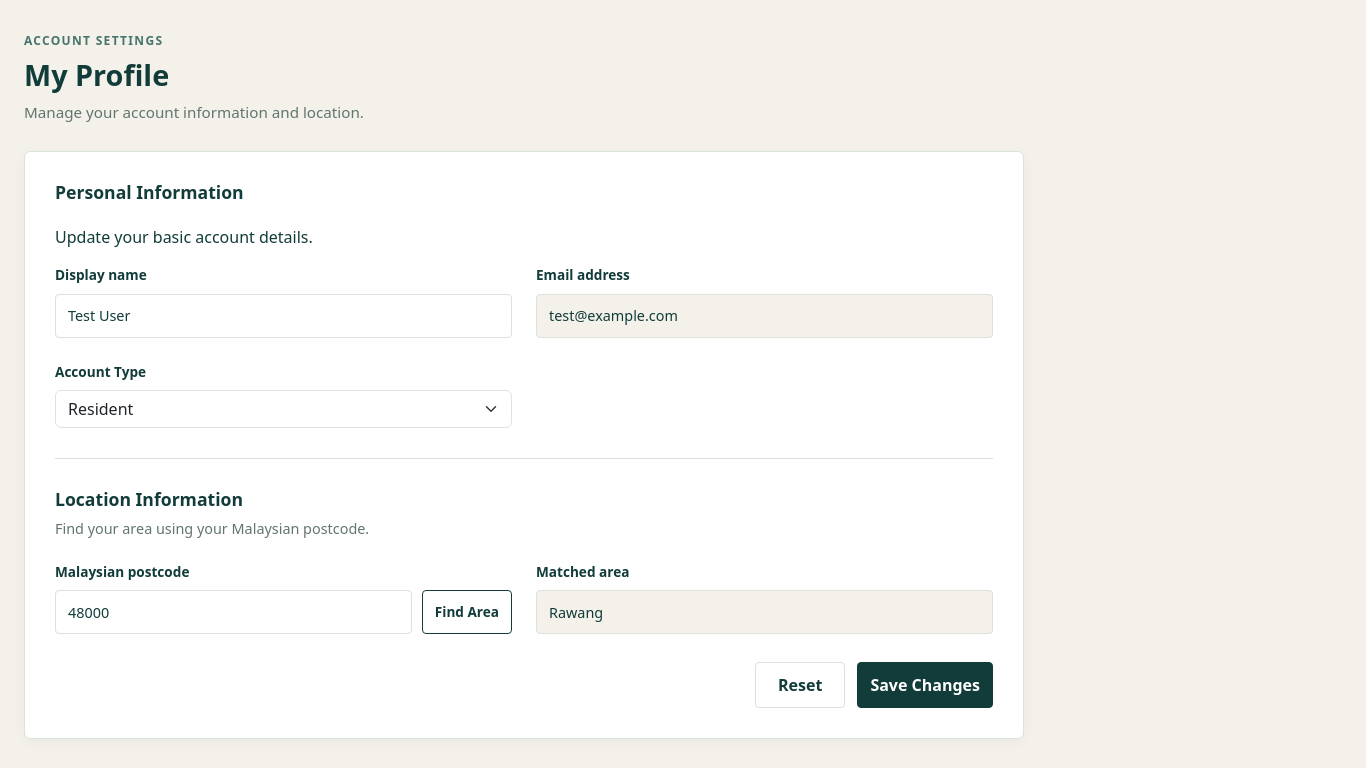
Profile › saves the updated profile information
Replace the text in the field labelled "Display name" with "Updated User" at (284, 316), box [55,294,512,338]
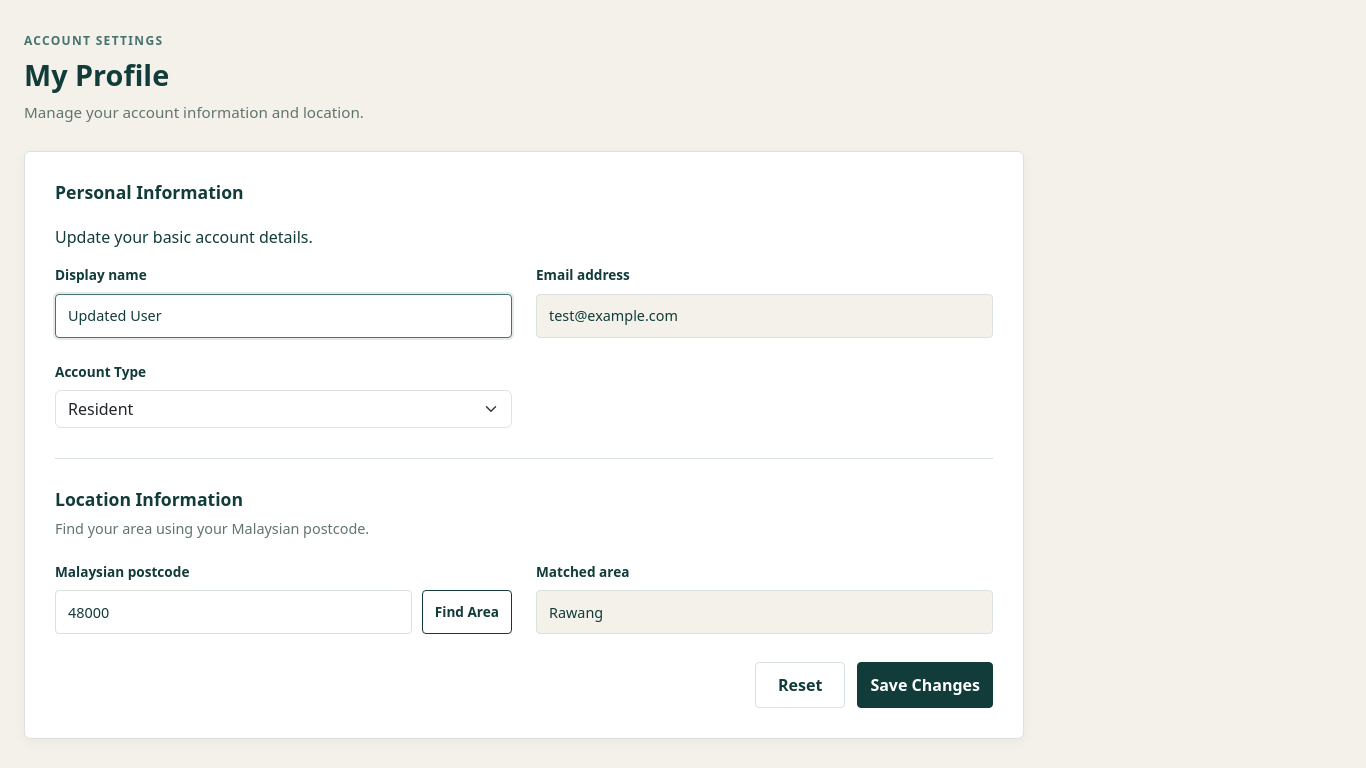
Select "Small Business" in the dropdown labelled "Account Type" at (284, 409), box [55,390,512,428]
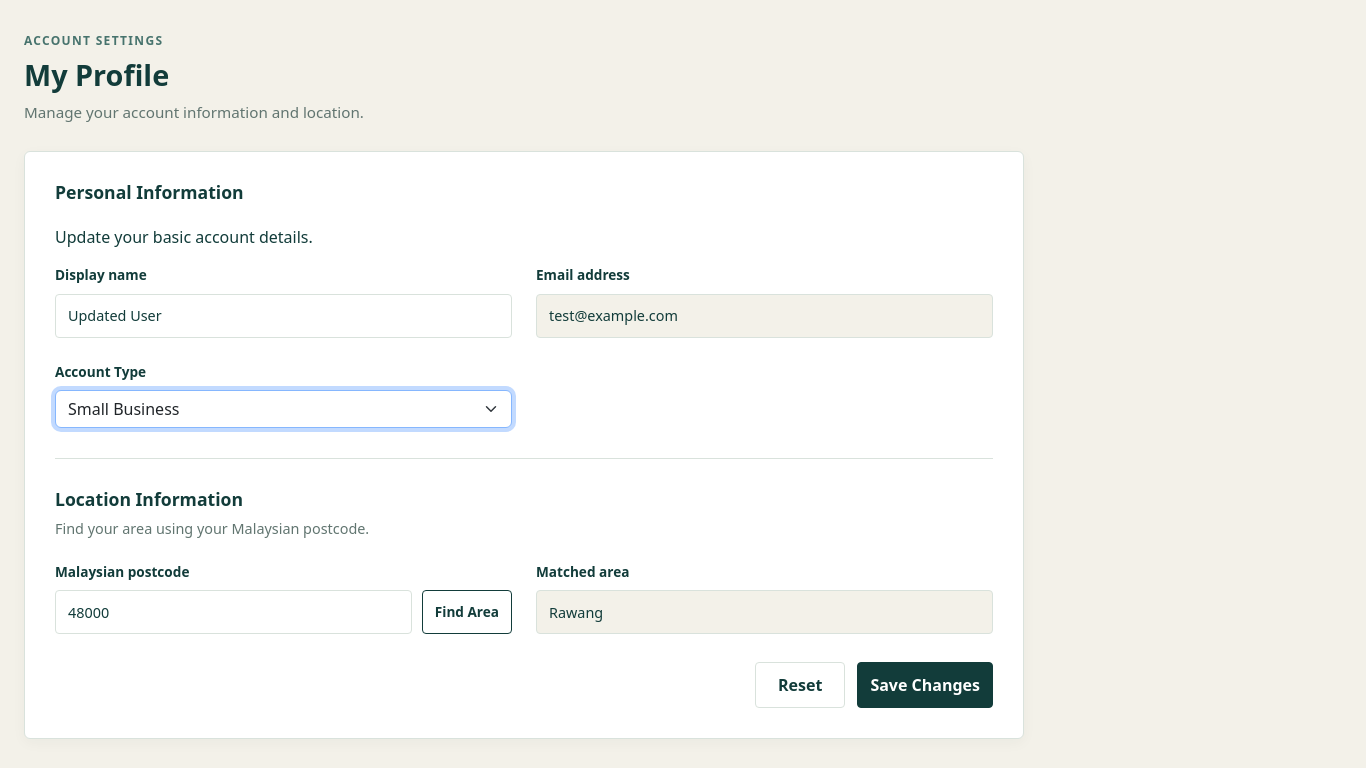
Click the button "Save Changes" at (925, 685), box [857,662,993,708]
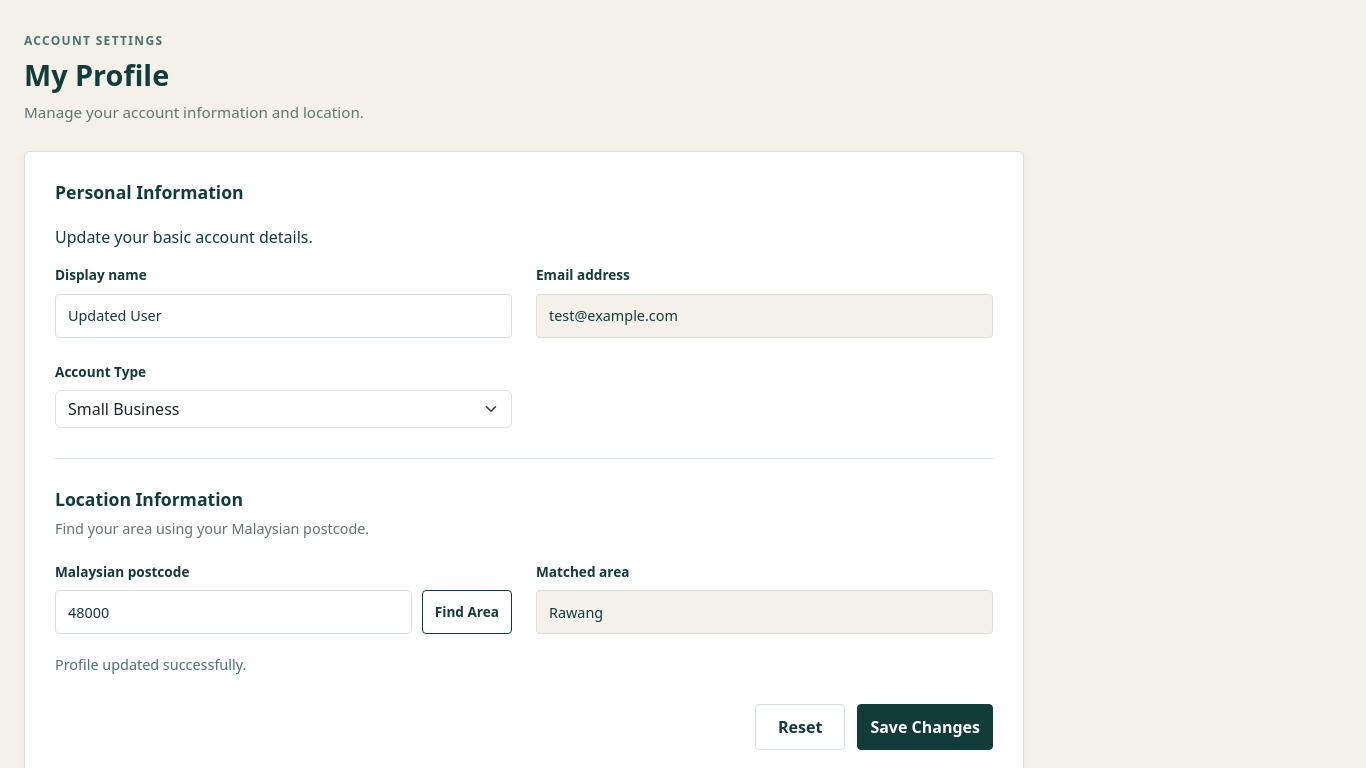
Now the text "Profile updated successfully." is shown, box [55,655,246,674]
